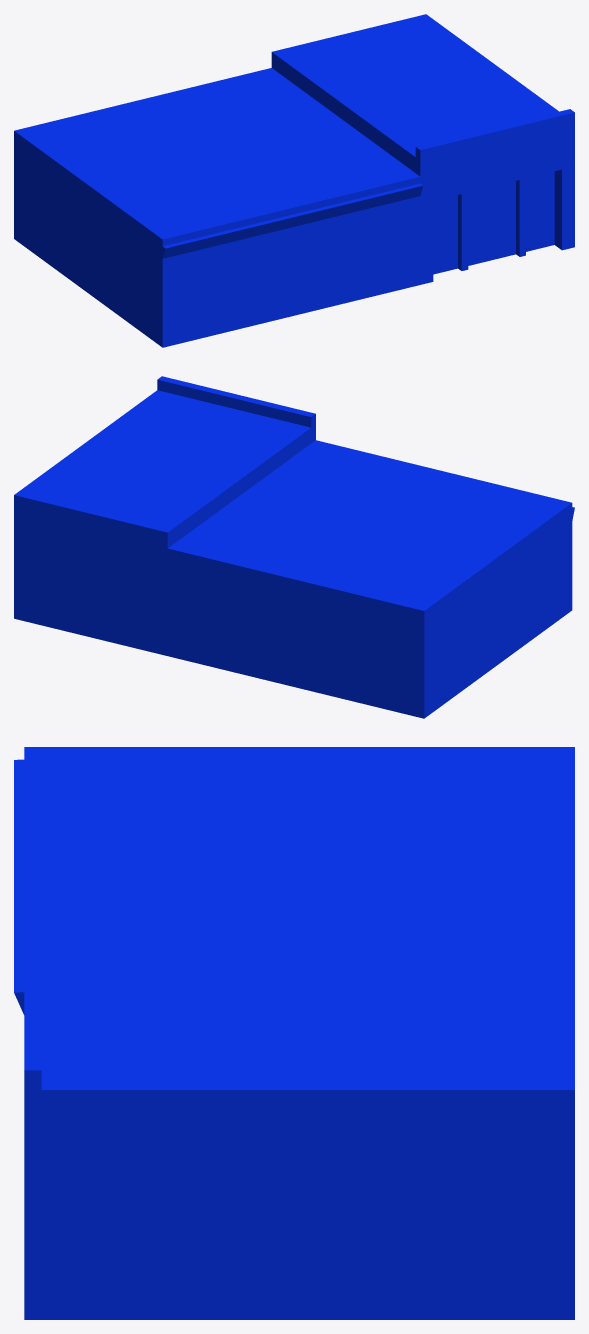
The model's file is general_shop_3.glb.
The picture shows the model from 3 angles, top to bottom: view 1: azimuth 30°, elevation 25°; view 2: azimuth 150°, elevation 25°; view 3: azimuth 270°, elevation 25°; orthographic projection. The views are drawn at different scales.
Parts seen in each view (by area): view 1: general_shop_3-col; view 2: general_shop_3-col; view 3: general_shop_3-col.
Boxes of the visible parts, bbox=[...] form: general_shop_3-col: bbox=[14, 14, 574, 347]; general_shop_3-col: bbox=[14, 376, 574, 718]; general_shop_3-col: bbox=[14, 747, 574, 1319].
Size of the model in its own units: 16 by 5 by 10.19.
